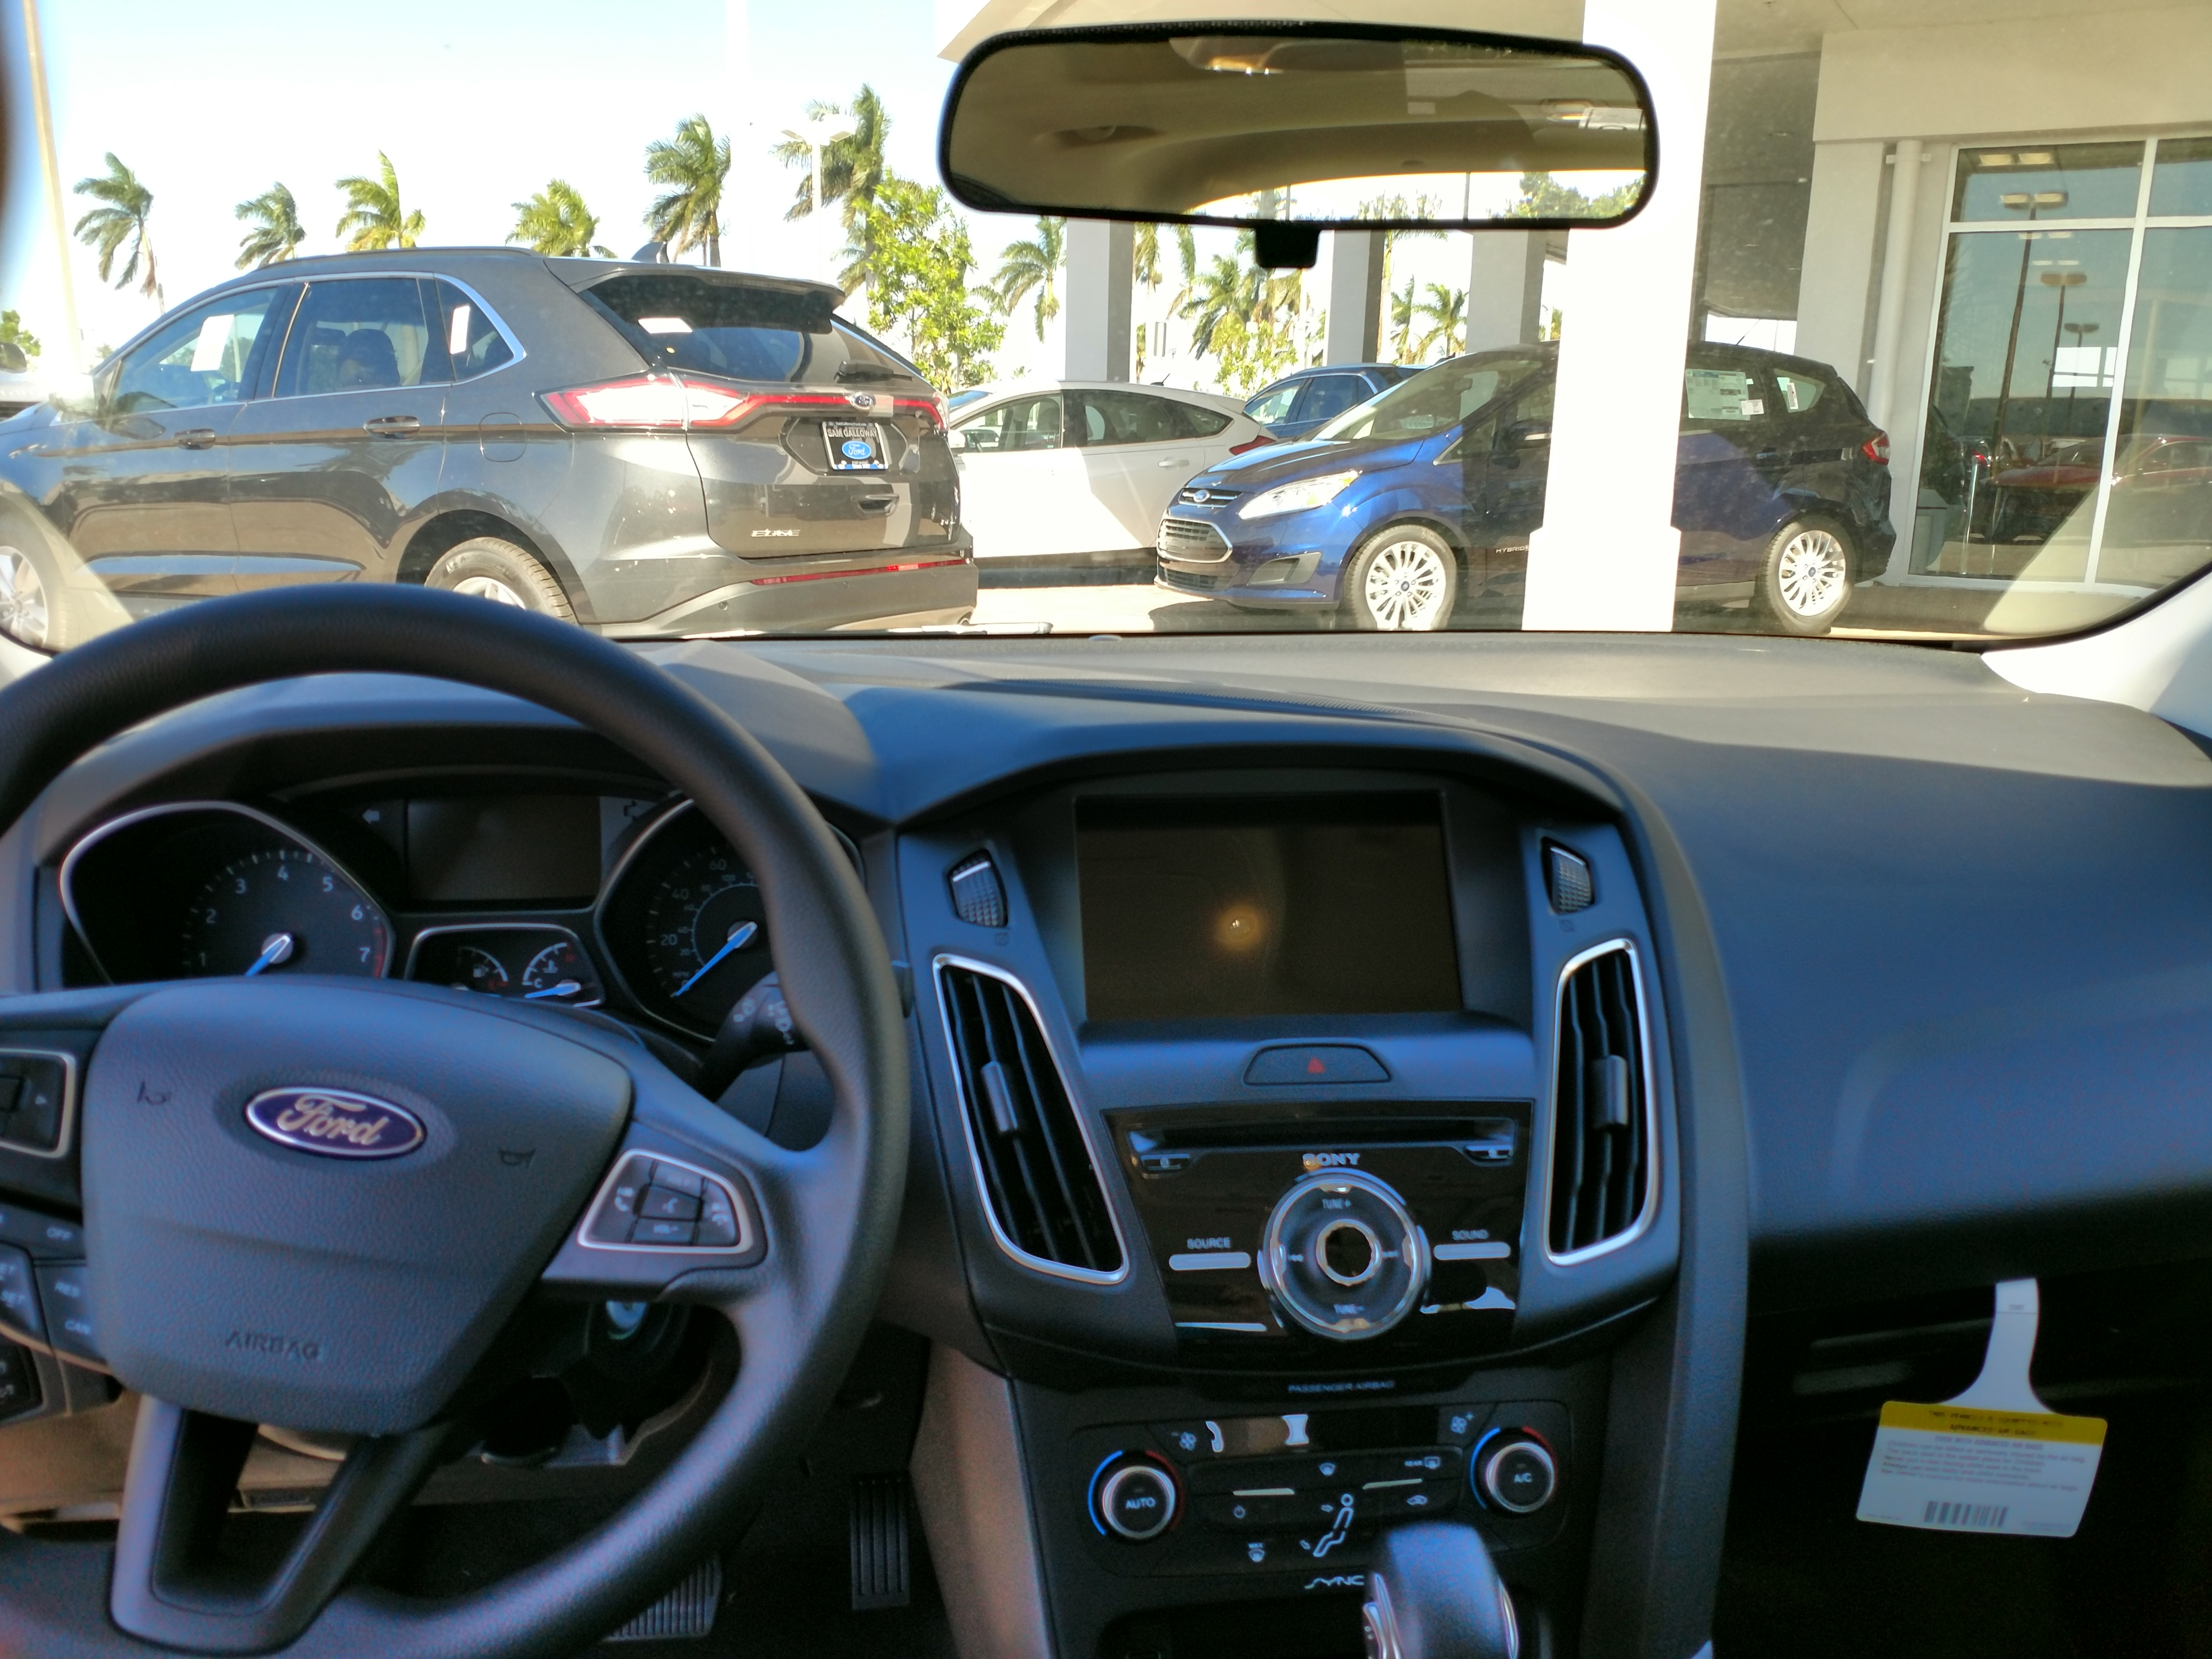Ford: (237, 1075, 432, 1171)
